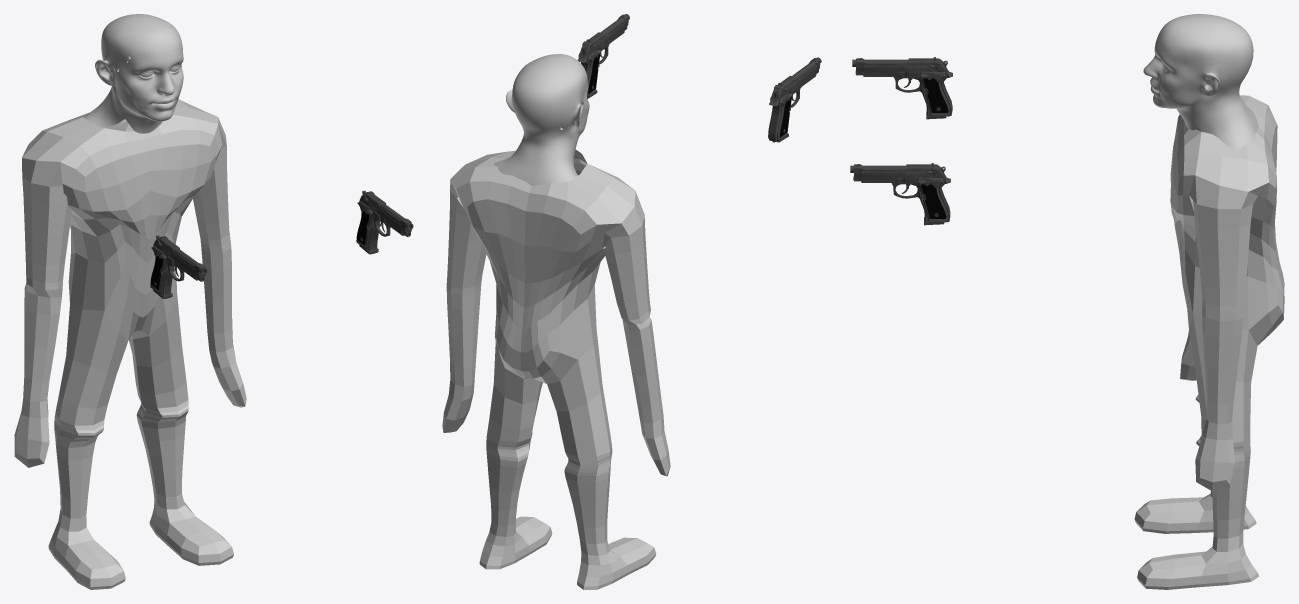
The model's file is Calzado.obj.
3 views of the same model, side by side, from view 1: azimuth 30°, elevation 25°; view 2: azimuth 150°, elevation 25°; view 3: azimuth 270°, elevation 25° (orthographic). The views are drawn at different scales.
Visible parts, largest first — view 1: Cube, FBHead_FBHead_mesh, Pistol_Hammer.001_Circle.005, Pistol_Hammer_Circle.001, Pistol_Top_Circle.000, Pistol_Top.001_Circle.006; view 2: Cube, FBHead_FBHead_mesh, Pistol_Hammer_Circle.001, Pistol_Hammer.001_Circle.005, Pistol_Top.001_Circle.006, Pistol_Top_Circle.000; view 3: Cube, FBHead_FBHead_mesh, Pistol_Hammer.001_Circle.005, Pistol_Hammer_Circle.001, Pistol_Top_Circle.000, Pistol_Top.001_Circle.006.
Boxes of the visible parts, x1,y1,x2,y2 form: Cube: (14, 99, 246, 589); FBHead_FBHead_mesh: (84, 14, 183, 133); Pistol_Hammer.001_Circle.005: (356, 201, 413, 250); Pistol_Hammer_Circle.001: (150, 245, 207, 295); Pistol_Top_Circle.000: (153, 236, 205, 277); Pistol_Top.001_Circle.006: (359, 191, 411, 232); Cube: (442, 150, 670, 589); FBHead_FBHead_mesh: (494, 54, 589, 185); Pistol_Hammer_Circle.001: (768, 57, 821, 142); Pistol_Hammer.001_Circle.005: (577, 14, 629, 97); Pistol_Top.001_Circle.006: (579, 14, 628, 56); Pistol_Top_Circle.000: (771, 58, 820, 99); Cube: (1134, 95, 1284, 589); FBHead_FBHead_mesh: (1143, 14, 1258, 148); Pistol_Hammer.001_Circle.005: (850, 165, 950, 222); Pistol_Hammer_Circle.001: (852, 59, 952, 116); Pistol_Top_Circle.000: (856, 57, 946, 71); Pistol_Top.001_Circle.006: (854, 163, 944, 177).
Bounding box in the file's own units: 19.05 × 41.93 × 30.63.
